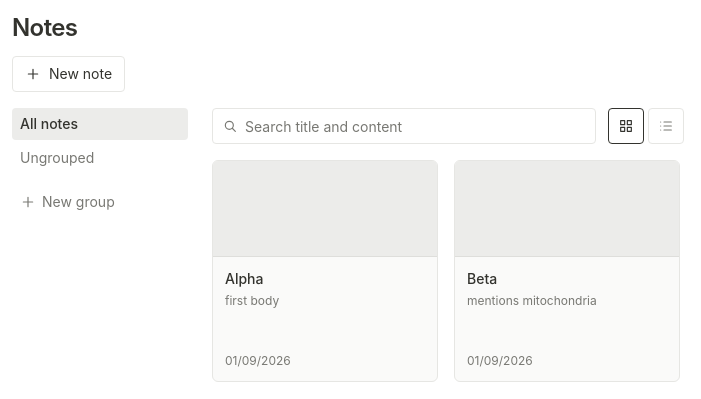
NotesPage › searches through the notes API and shows only matches
expect the heading "Alpha" is shown: met, box 225,270 -> 264,287
Step 1. Type "mitochondria" into the search field with placeholder "Search title and content" → (404, 126), box 212,108 -> 596,144
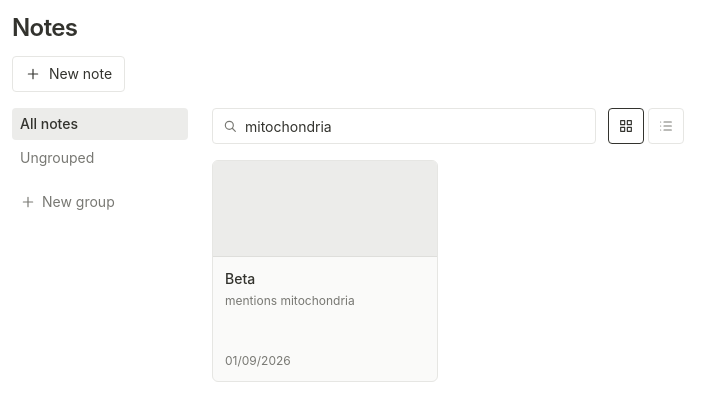
expect the heading "Beta" is shown: met, box 225,270 -> 255,287
expect the heading "Alpha" is gone: met
